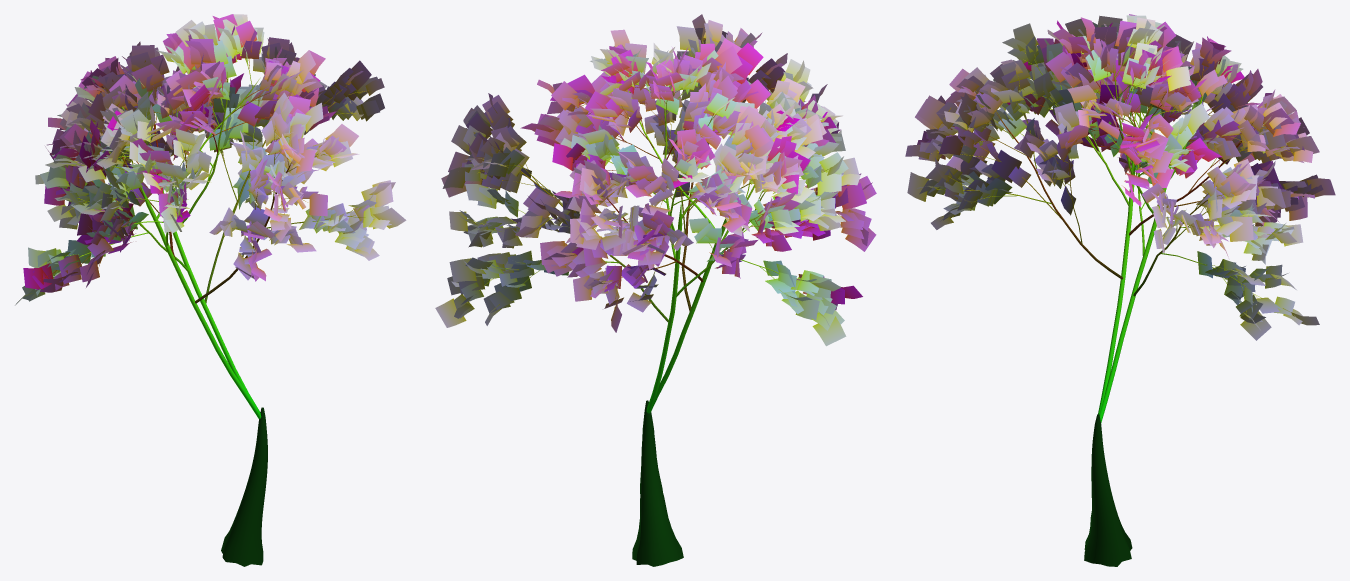
Rendered from salix_alba.glb.
The picture shows the model from 3 angles, left to right: view 1: azimuth 30°, elevation 25°; view 2: azimuth 150°, elevation 25°; view 3: azimuth 270°, elevation 25°; orthographic projection.
Visible parts, largest first — view 1: salix_alba_lod0; view 2: salix_alba_lod0; view 3: salix_alba_lod0.
Boxes of the visible parts, x1,y1,x2,y2 form: salix_alba_lod0: (15,14,406,566); salix_alba_lod0: (435,14,876,566); salix_alba_lod0: (905,14,1335,566).
Size of what is drawn, in the model's own units: 11.07 by 14.64 by 10.9.
